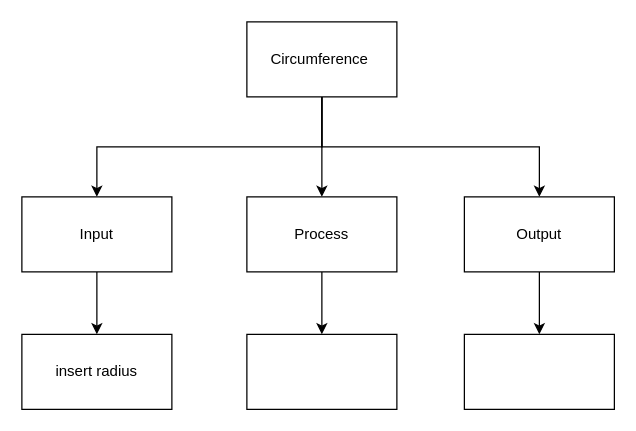
Some shapes in this 636 by 431 pixel diagram are drawn without their labels. The centre of each missing label's shape, as x and y in pixels:
"circumference = tau * radius" goes at pixel 321 371.
"Show the circumference" goes at pixel 538 371.
